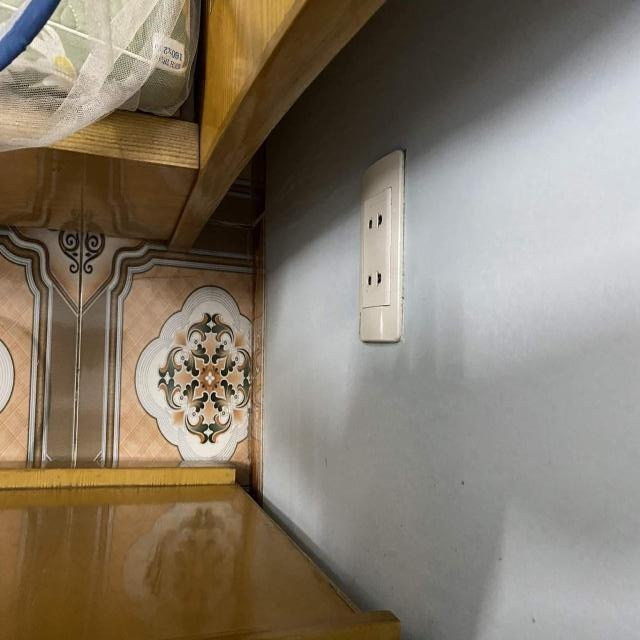outlet: (359, 149, 406, 343)
